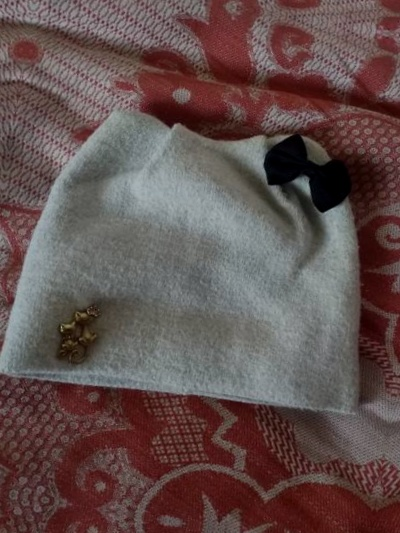Hat: (0, 46, 400, 462), (0, 0, 14, 395)
